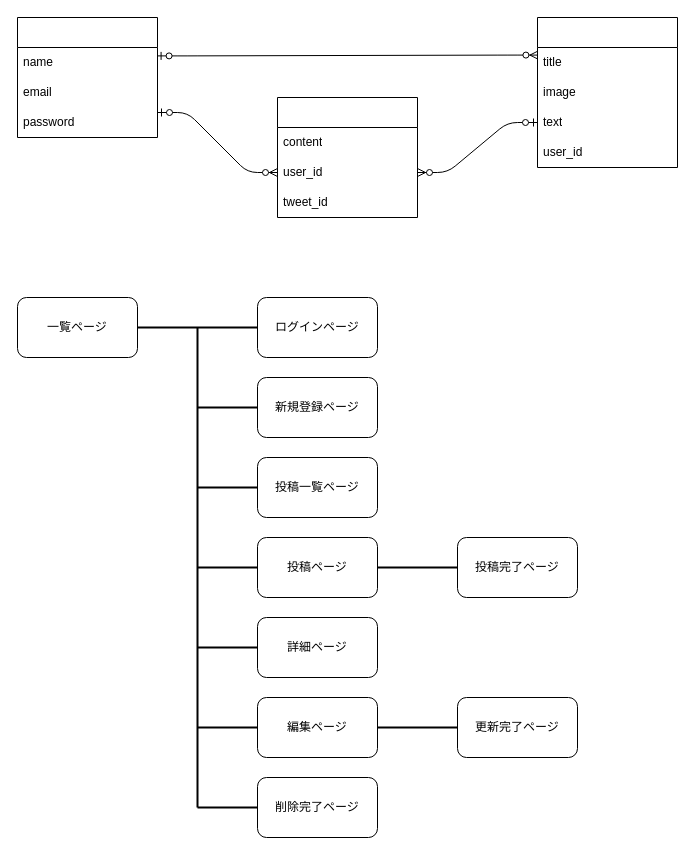
This 695x855 diagram has some shape labels left out. Each missing label, with the box of its shape:
comments: (276, 96, 418, 218)
tweets: (536, 16, 678, 168)
users: (16, 16, 158, 138)
